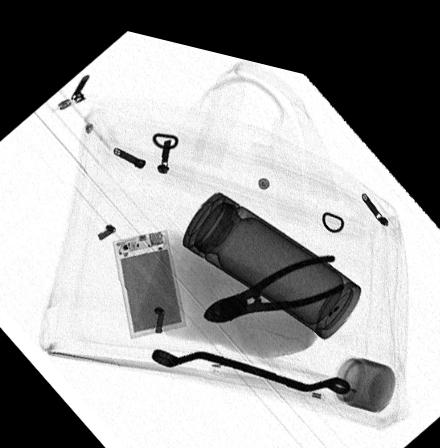Pliers: (201, 235, 346, 311)
Powerbank: (113, 219, 187, 332)
Wrench: (152, 338, 351, 376)
